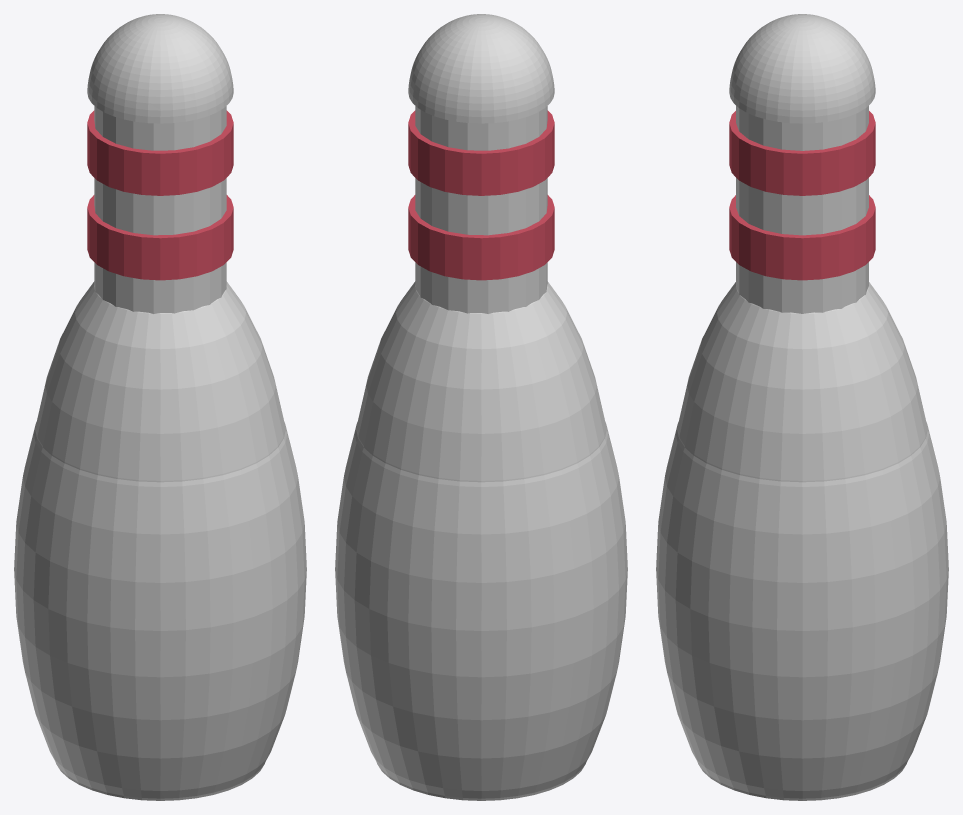
The model's file is Bowling Pin.glb.
3 views of the same model, side by side, from view 1: azimuth 30°, elevation 25°; view 2: azimuth 150°, elevation 25°; view 3: azimuth 270°, elevation 25° (orthographic).
Parts seen in each view (by area): view 1: Mesh_Mesh_head_geo.001_lambert2SG.001; view 2: Mesh_Mesh_head_geo.001_lambert2SG.001; view 3: Mesh_Mesh_head_geo.001_lambert2SG.001.
Boxes of the visible parts, bbox=[...] form: Mesh_Mesh_head_geo.001_lambert2SG.001: bbox=[14, 14, 306, 800]; Mesh_Mesh_head_geo.001_lambert2SG.001: bbox=[335, 14, 627, 800]; Mesh_Mesh_head_geo.001_lambert2SG.001: bbox=[656, 14, 948, 800].
Bounding box in the file's own units: 52 × 144 × 52.
